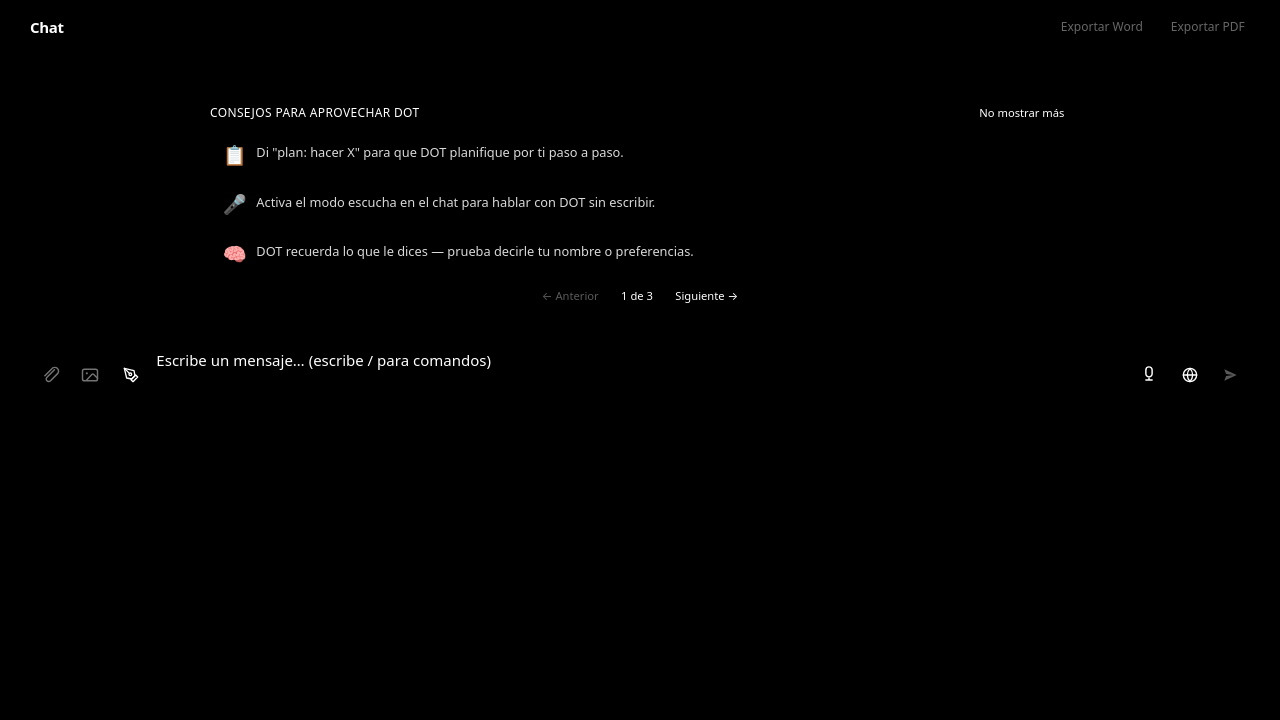
Test: DotChatPanel command suggestions › permite navegar con flechas y seleccionar con Enter
Type "/" into the text box with placeholder "Escribe un mensaje… (escribe / para comandos)" at (640, 367), box [154,342,1126,392]
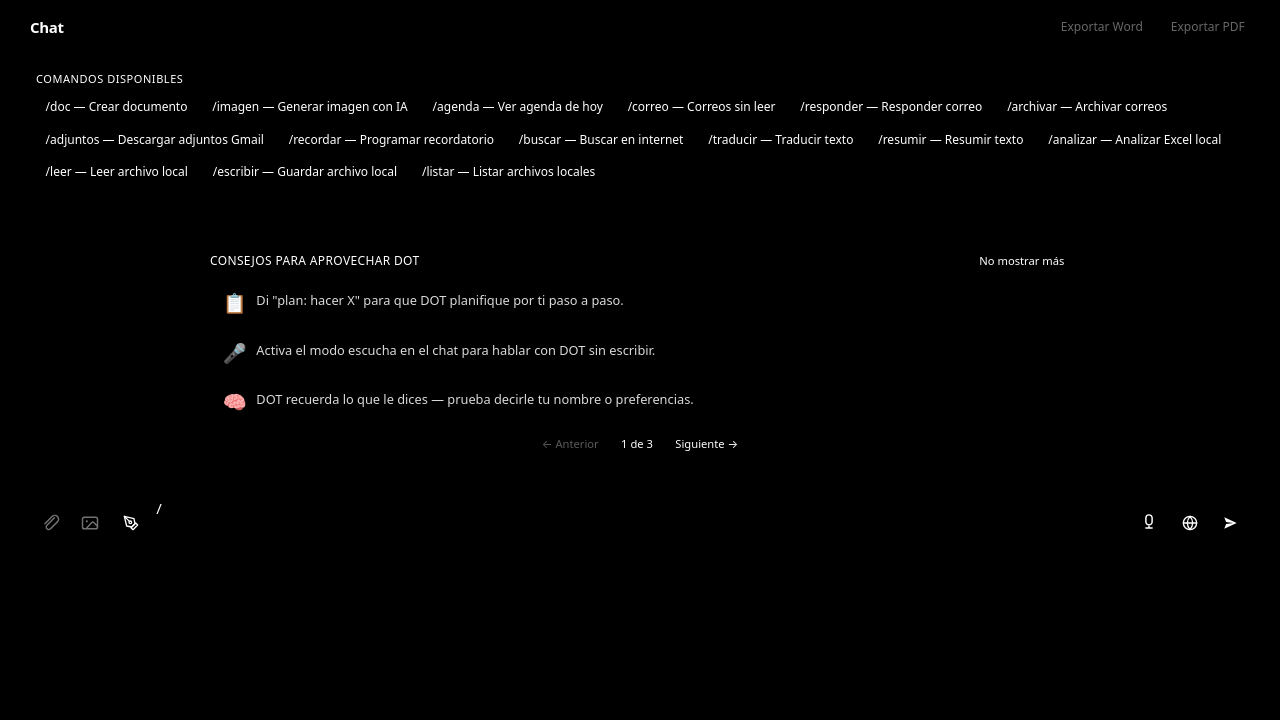
Press ArrowDown in the text box with placeholder "Escribe un mensaje… (escribe / para comandos)", box [154,490,1126,540]
Press Enter in the text box with placeholder "Escribe un mensaje… (escribe / para comandos)", box [154,490,1126,540]
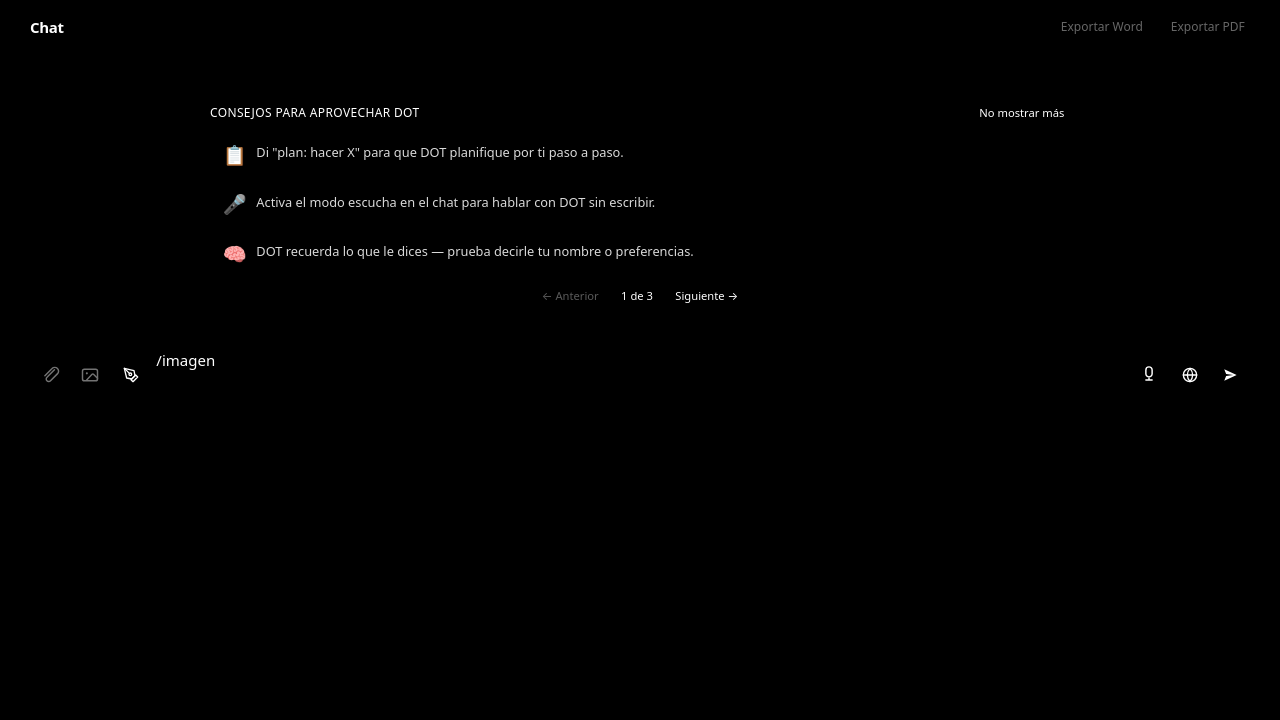
Expected: the text box with placeholder "Escribe un mensaje… (escribe / para comandos)" holds "/imagen ", [154,342,1126,392]
Expected: the text "Comandos disponibles" is gone
